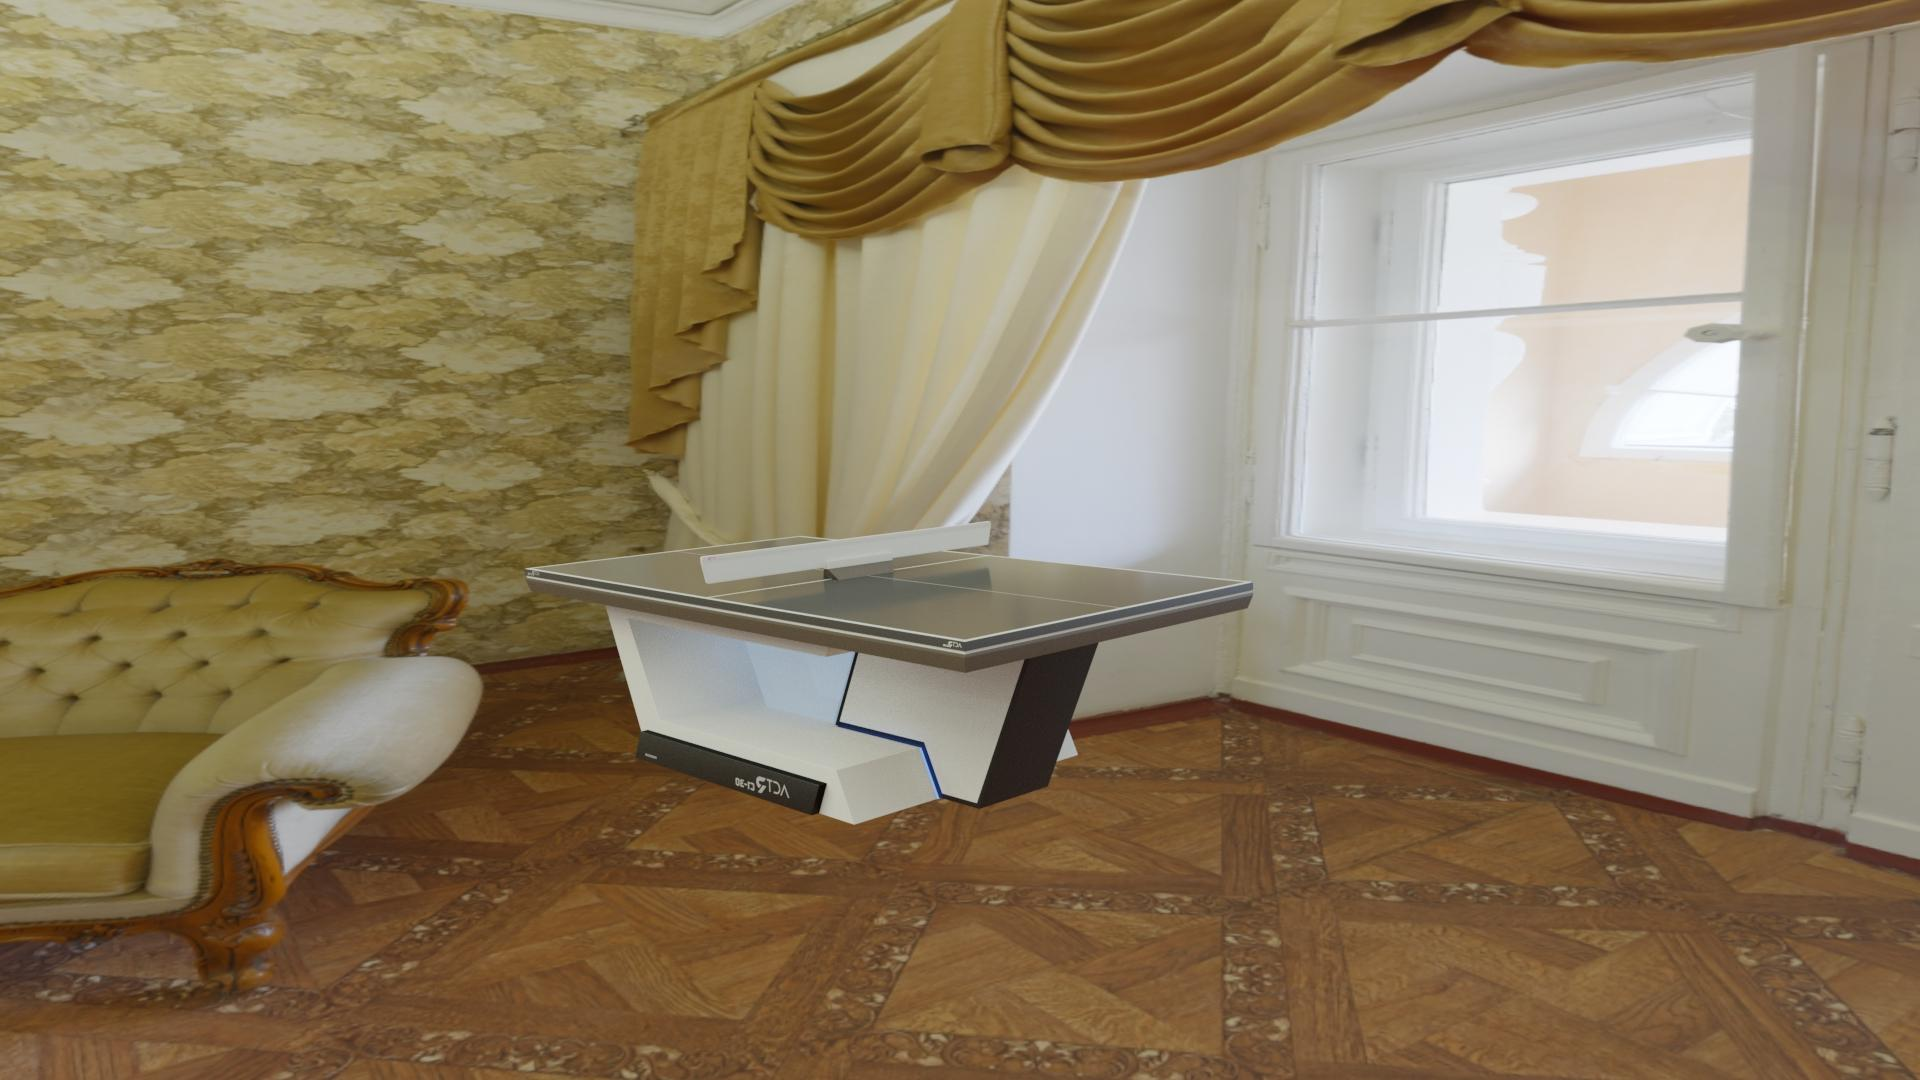table: (531, 537, 1246, 640)
